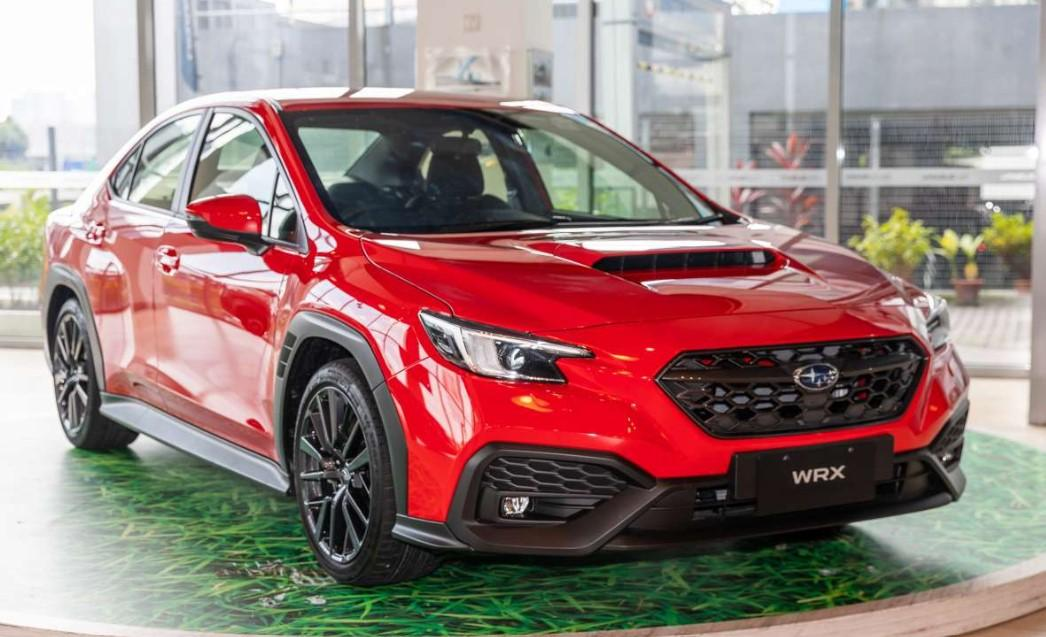subaru: (780, 353, 849, 394)
